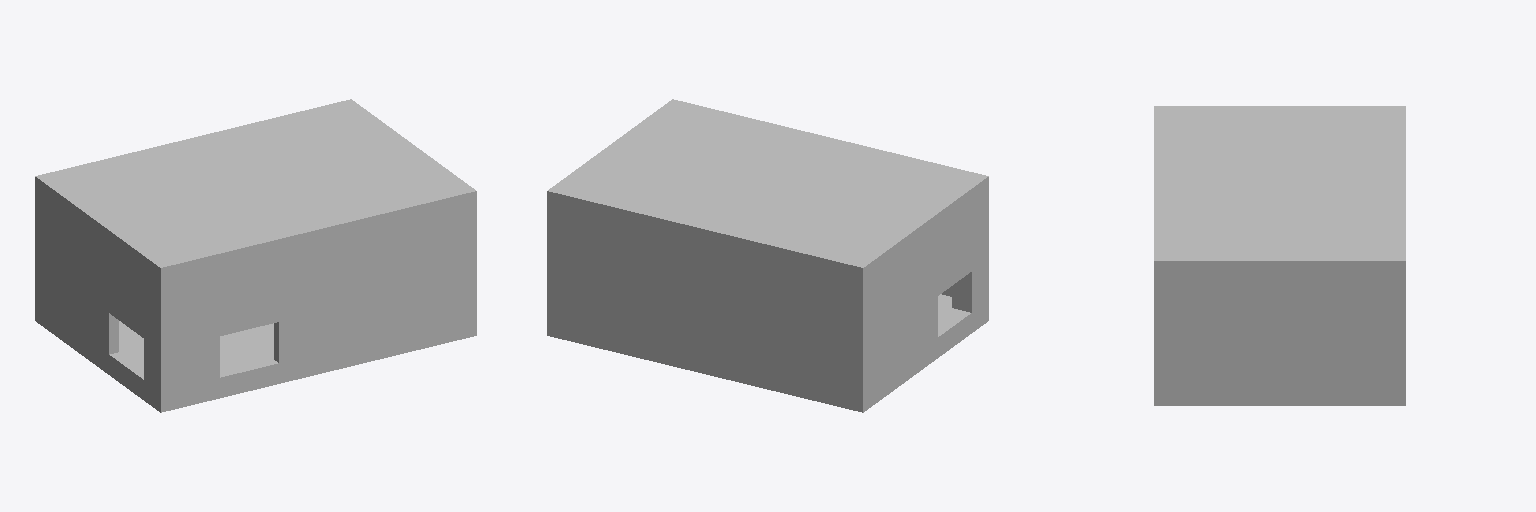
File: RoomAttemp 4.obj
The picture shows the model from 3 angles: view 1: azimuth 30°, elevation 25°; view 2: azimuth 150°, elevation 25°; view 3: azimuth 270°, elevation 25°; orthographic projection.
Parts seen in each view (by area): view 1: Cube.002, Front.001, Cube.001, Back.001, left.001, right, Back, Front; view 2: Cube.002, Front, Cube.001, left.001, right, Cube; view 3: Cube.002, left, Cube.001, Front, Front.001.
Boxes of the visible parts, x1=… form: Cube.002: x1=35, y1=99, x2=476, y2=288; Front.001: x1=155, y1=212, x2=476, y2=350; Cube.001: x1=35, y1=301, x2=476, y2=412; Back.001: x1=274, y1=274, x2=476, y2=362; left.001: x1=41, y1=202, x2=154, y2=345; right: x1=41, y1=264, x2=118, y2=354; Back: x1=155, y1=337, x2=219, y2=391; Front: x1=35, y1=197, x2=40, y2=303; Cube.002: x1=547, y1=99, x2=988, y2=288; Front: x1=547, y1=212, x2=868, y2=391; Cube.001: x1=547, y1=294, x2=988, y2=412; left.001: x1=869, y1=202, x2=982, y2=345; right: x1=869, y1=297, x2=937, y2=387; Cube: x1=952, y1=264, x2=982, y2=312; Cube.002: x1=1154, y1=106, x2=1405, y2=280; left: x1=1166, y1=281, x2=1393, y2=384; Cube.001: x1=1154, y1=385, x2=1405, y2=405; Front: x1=1394, y1=281, x2=1405, y2=384; Front.001: x1=1154, y1=281, x2=1165, y2=343.
Bounding box in the file's own units: 16 × 7 × 11.